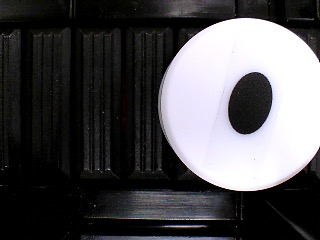BOHOEL: (159, 16, 320, 192)
